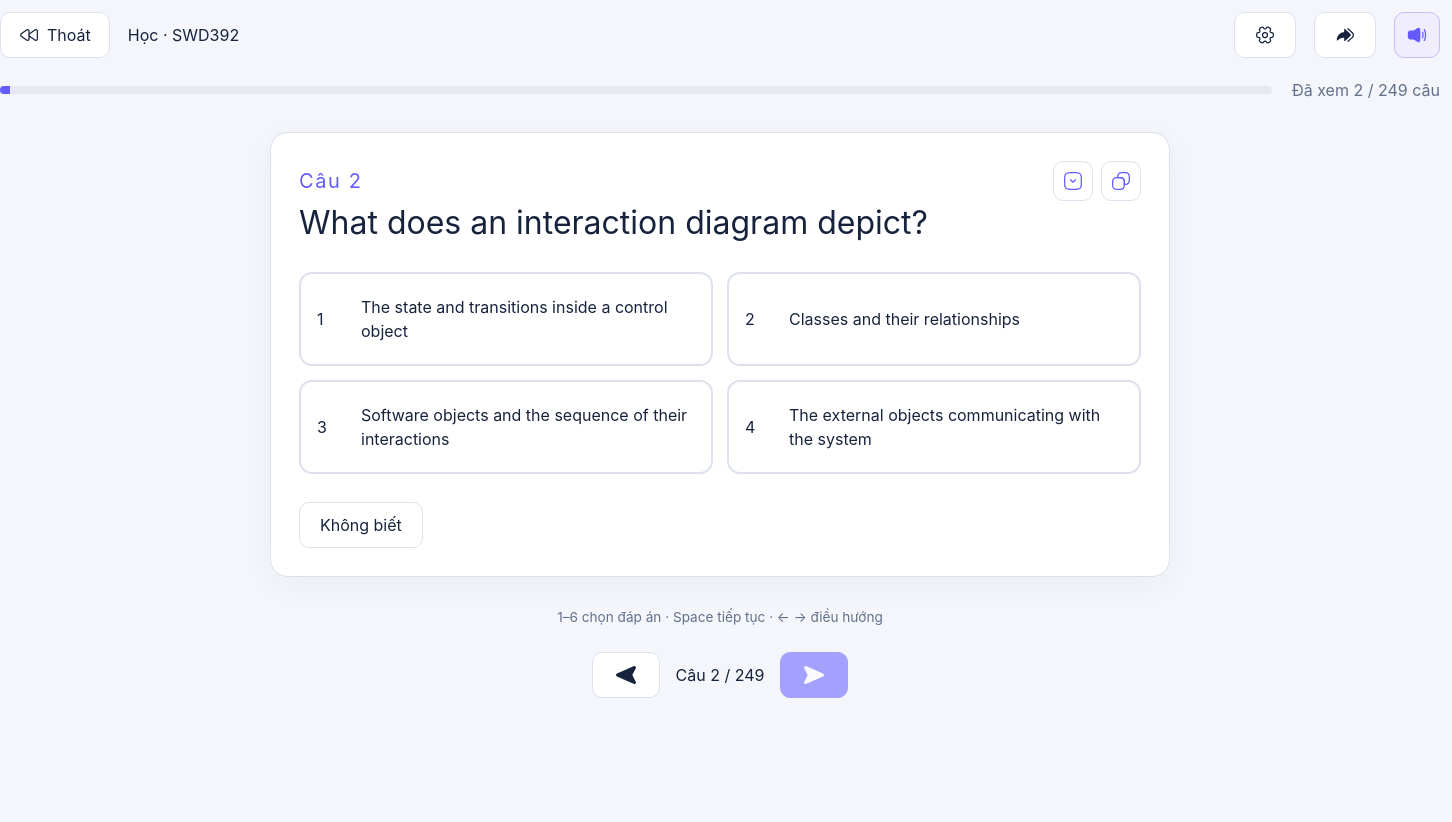
Test: StudyShell interactions and sound › does not play when viewing answered history
The width and height of the screenshot is (1452, 822).
Check: the text "Câu 2" is shown, box [299,166,362,196]
Click the button named "Trước" at point(626, 675), box [592,652,660,698]
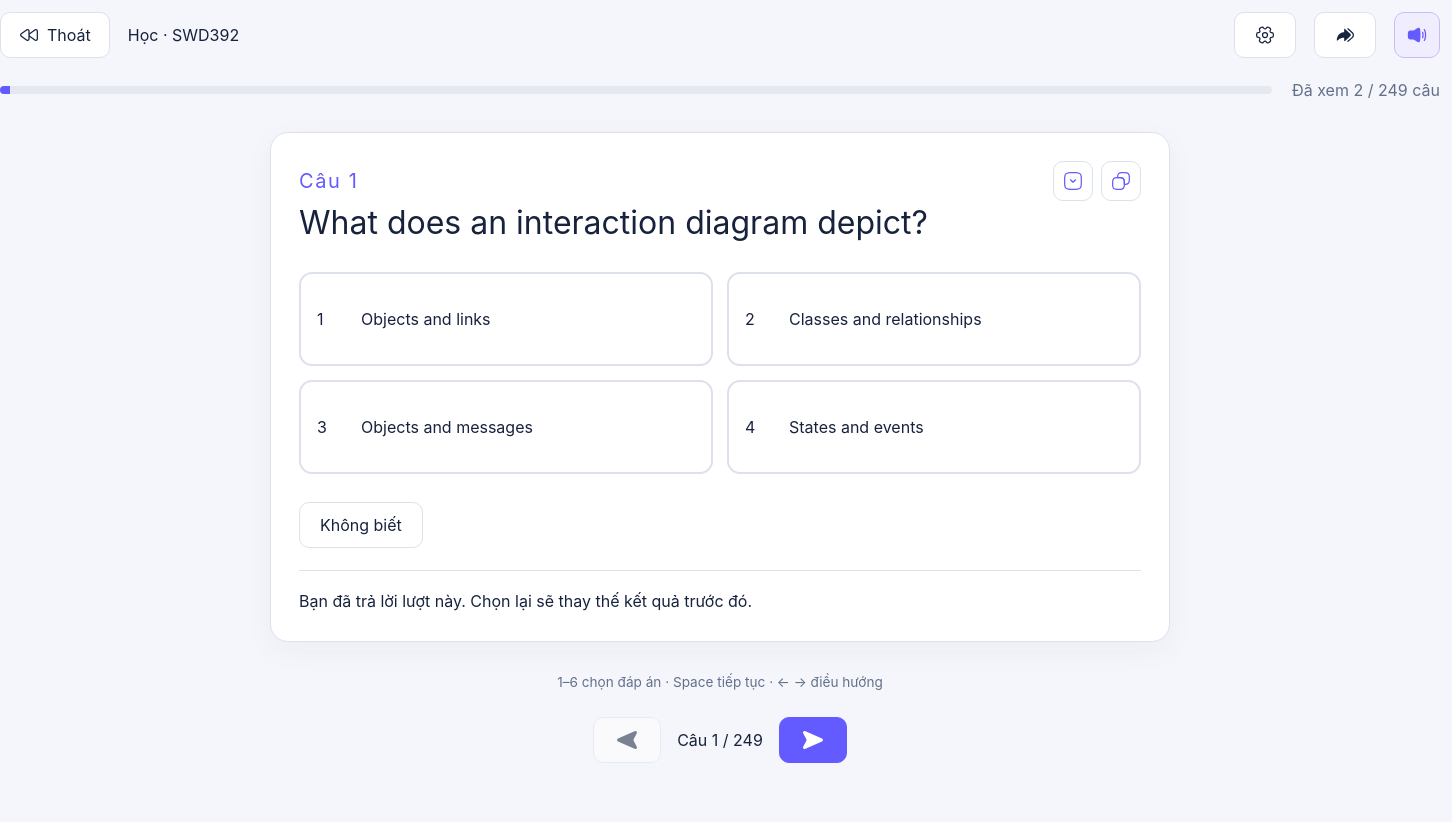
Check: the text "Câu 1" is shown, box [299,166,358,196]
